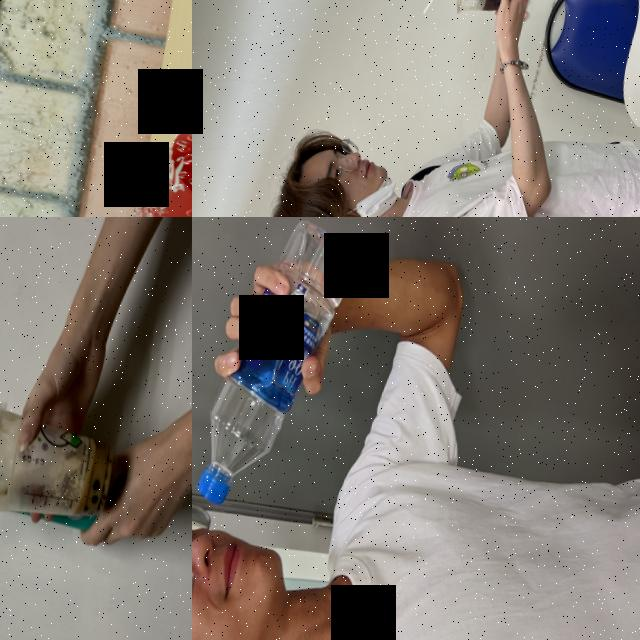bottle: (192, 217, 364, 524)
can: (92, 71, 192, 217)
cup: (0, 398, 120, 534), (454, 0, 519, 22)
